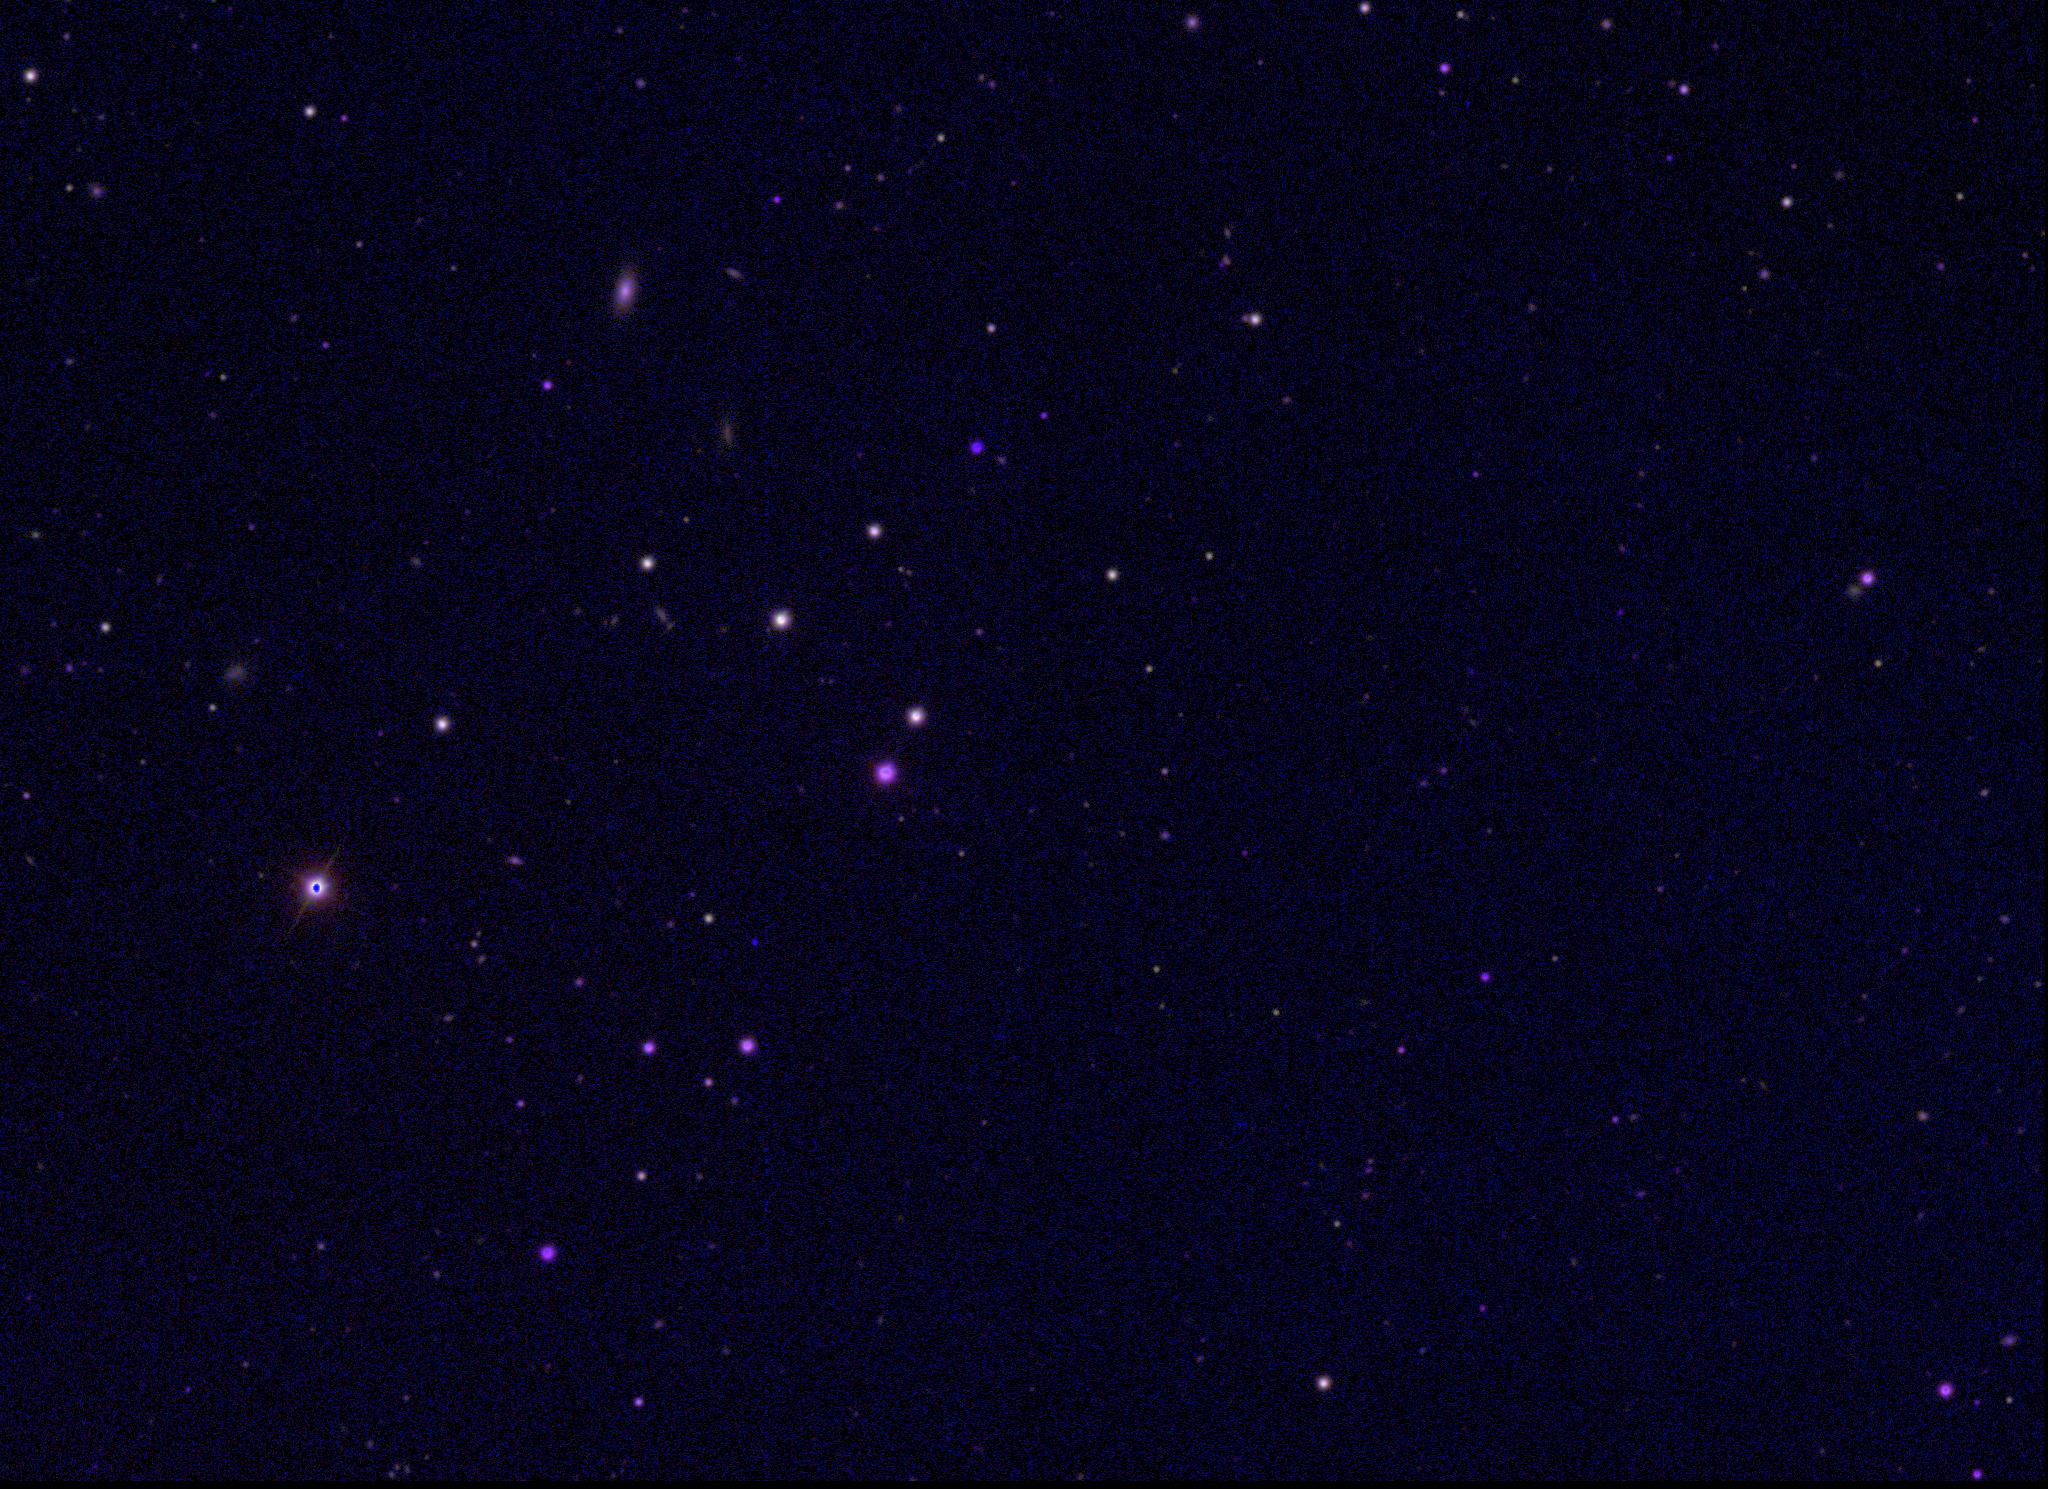L: (746, 931, 758, 945)
